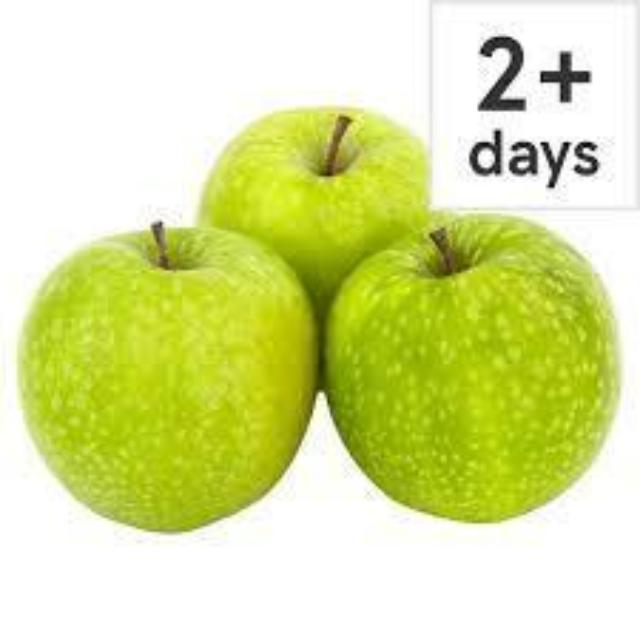apple: (17, 222, 316, 529), (324, 213, 617, 521), (196, 105, 427, 321)
